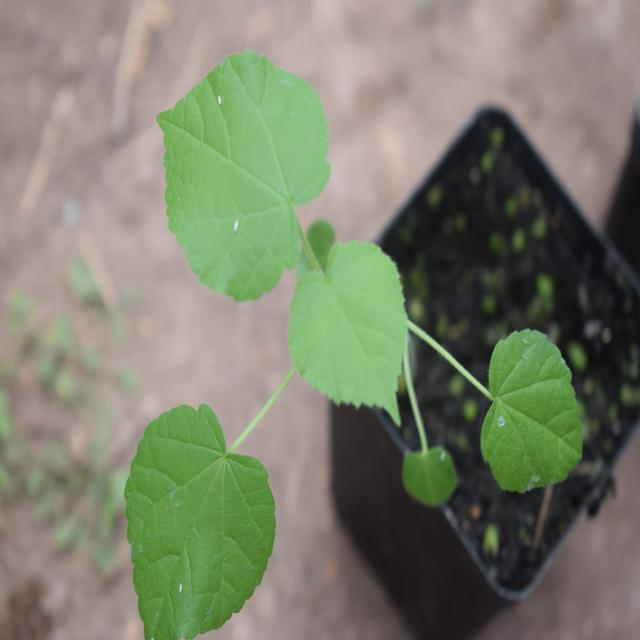abutilon theophrasti: (132, 40, 548, 607)
